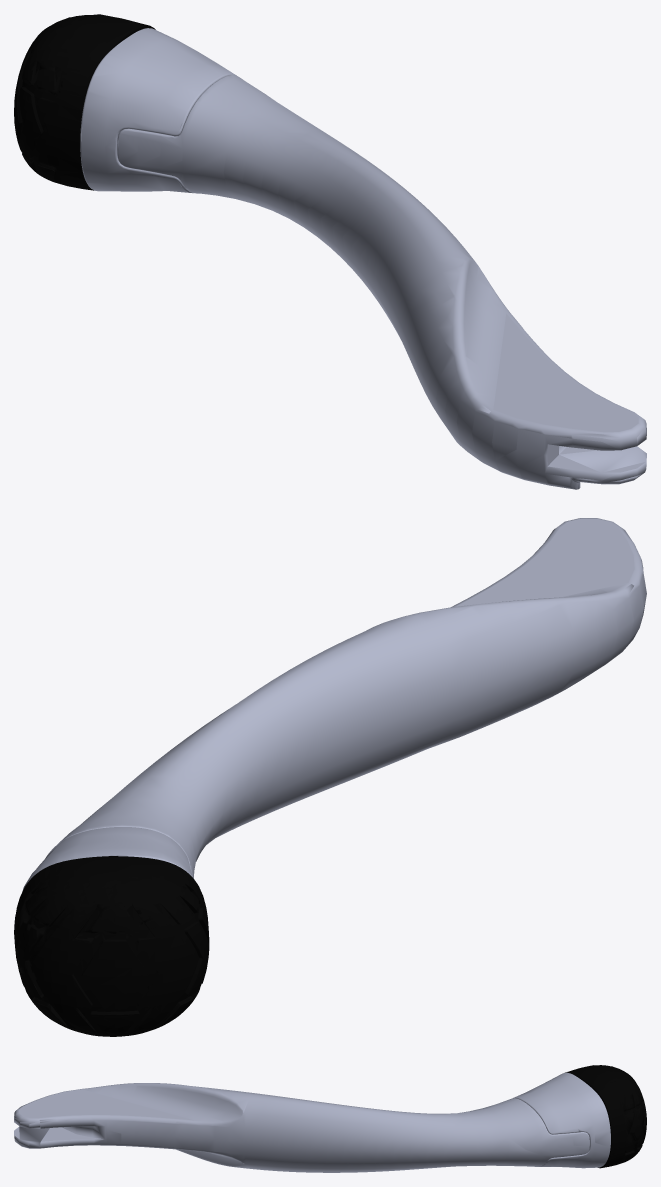
The model's file is RL_calf.obj.
3 renders of one model, top to bottom at view 1: azimuth 30°, elevation 25°; view 2: azimuth 150°, elevation 25°; view 3: azimuth 270°, elevation 25°, orthographic. The views are drawn at different scales.
Parts seen in each view (by area): view 1: RL_calf; view 2: RL_calf; view 3: RL_calf.
Boxes of the visible parts, x1,y1,x2,y2 form: RL_calf: (14,14,646,489); RL_calf: (14,518,646,1036); RL_calf: (14,1065,646,1172).
Size of the model in its own units: 0.0585 by 0.0398 by 0.267.
